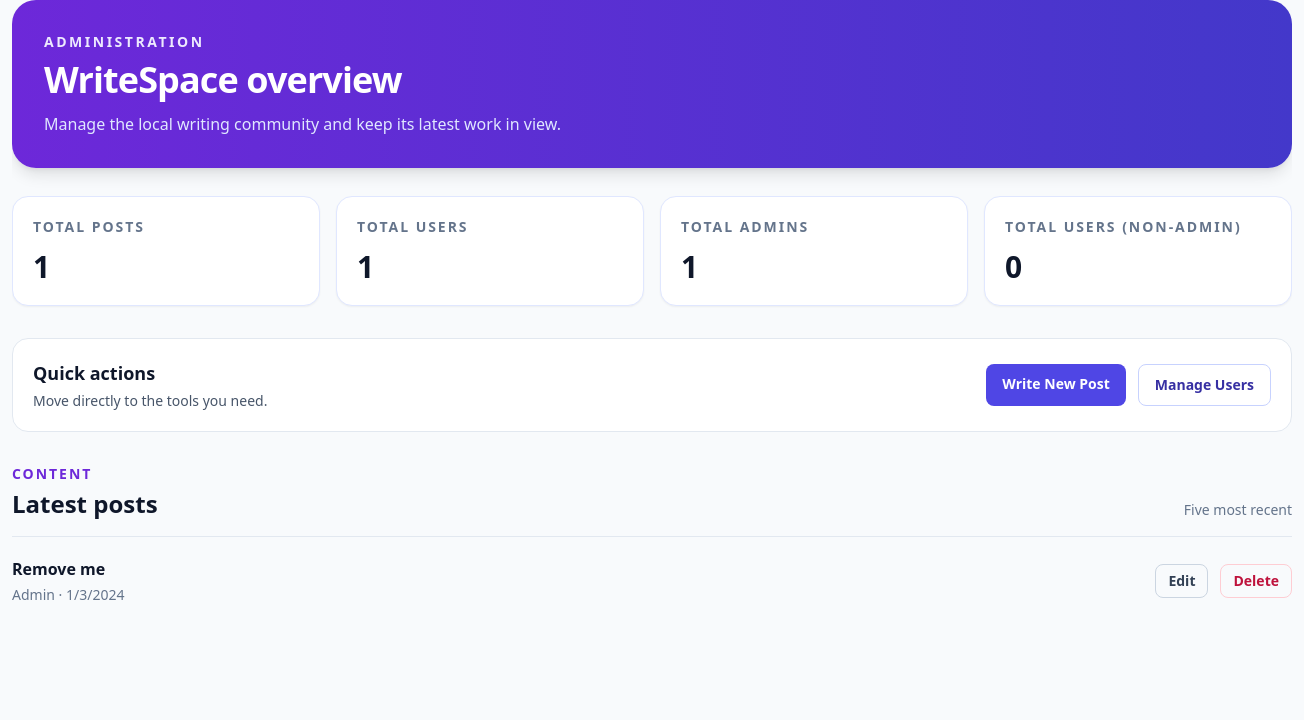
it: AdminDashboard › confirms and persists deletion of a recent post
Click the button "Delete" at [1256, 581], box [1220,564,1292,598]
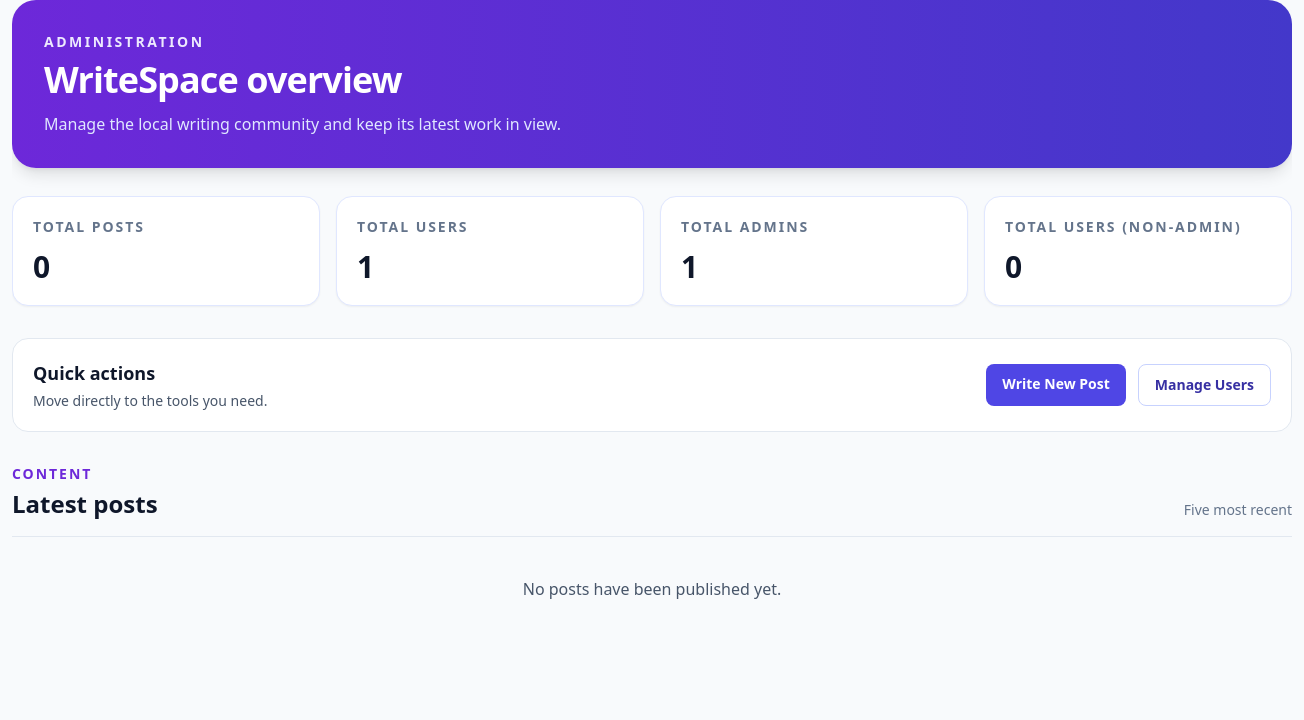
Now the heading "Remove me" is gone
